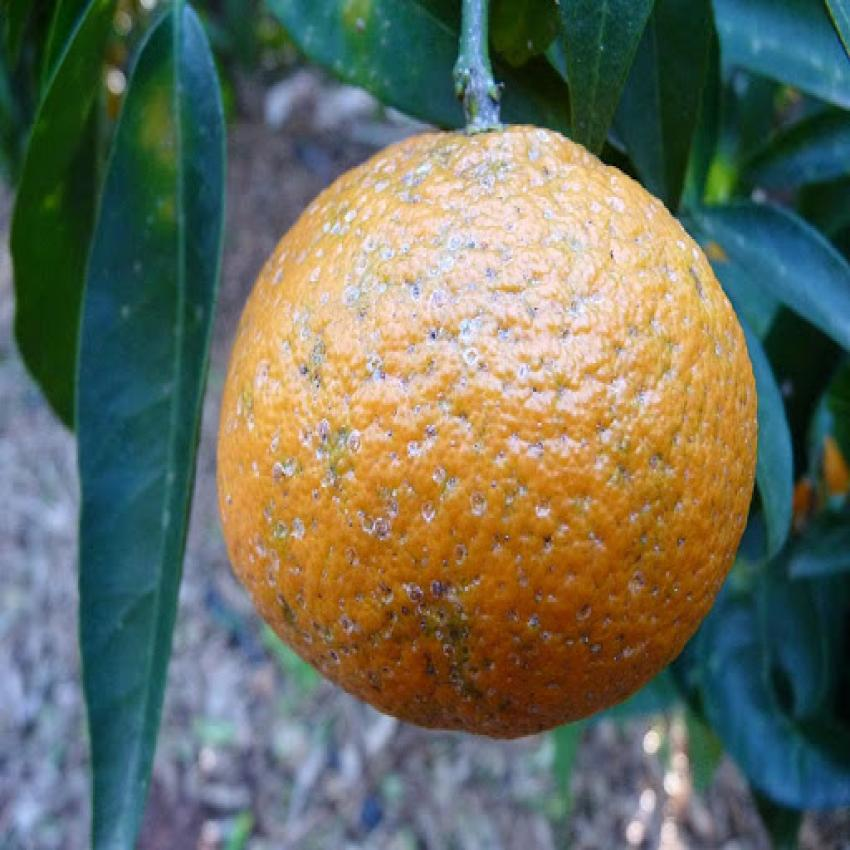Mal estado: (202, 94, 764, 744)
